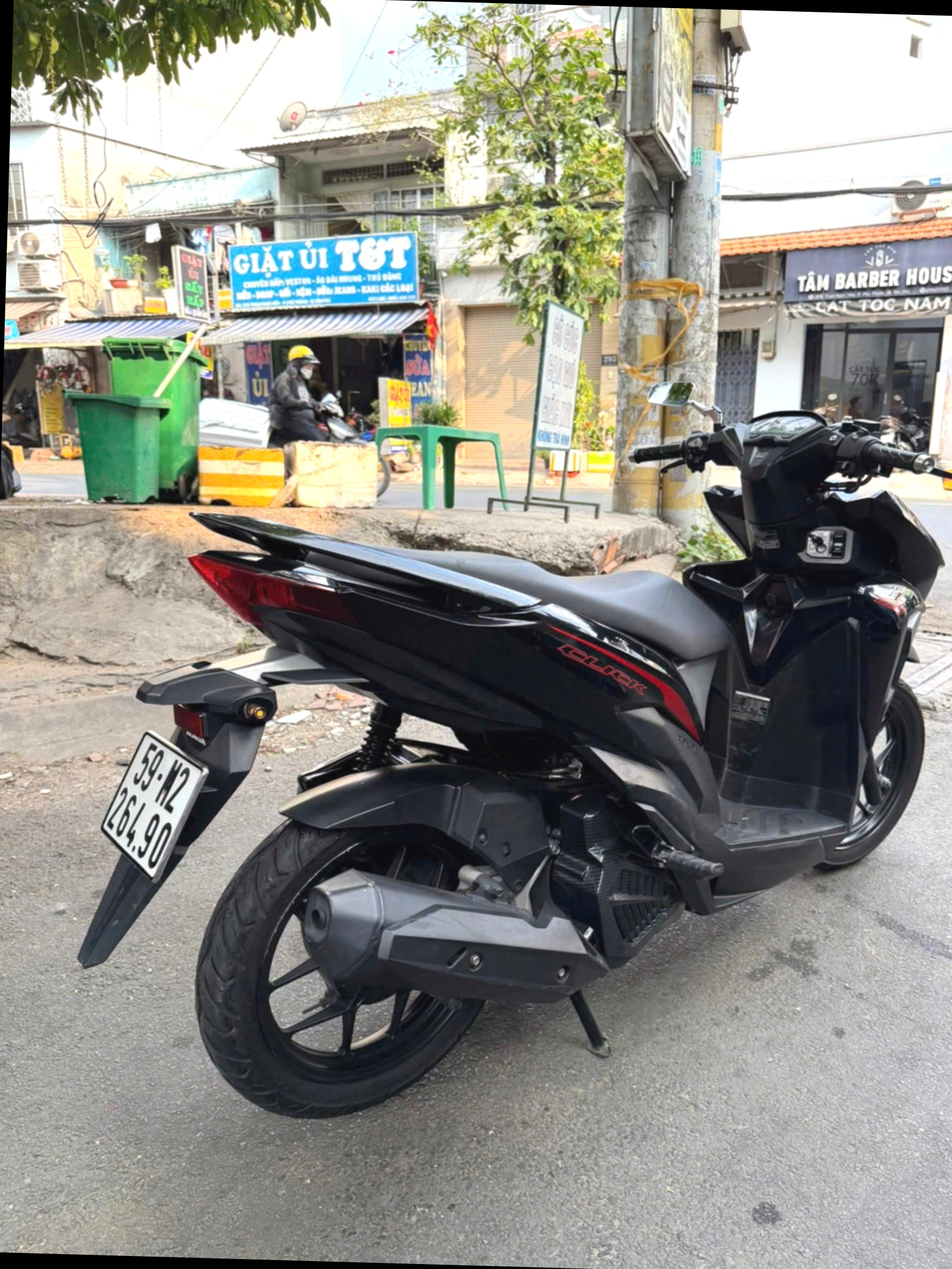Bien-so: (111, 722, 228, 890)
